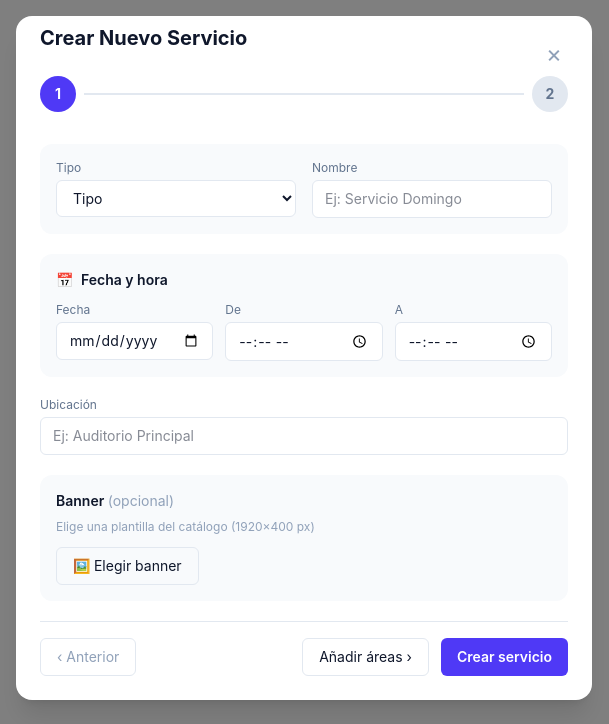
Test case: ServiceWizard › navigates to step 2 with areas
What coordinates should you click on to do the following:
click the button "Añadir áreas ›"
I would click on:
 (366, 657)
Its box is [302,638,429,676].
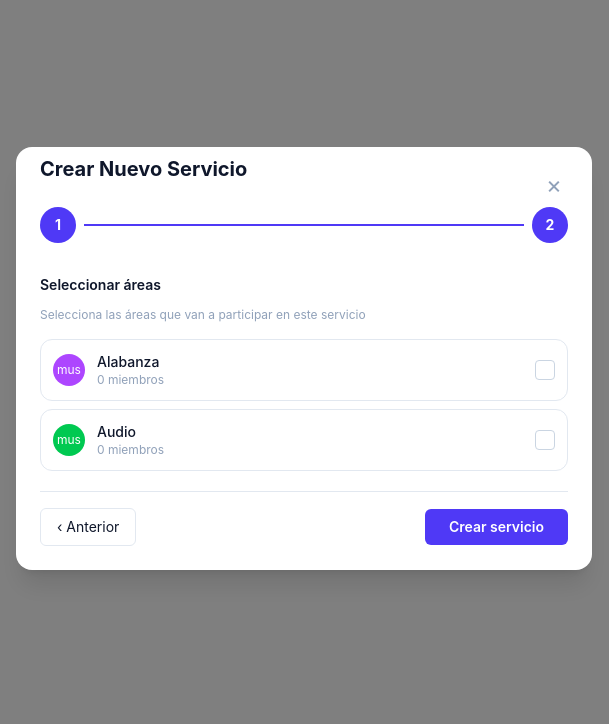
Check: the heading "Seleccionar áreas" is shown, box [40,276,161,292]
Check: the text "Alabanza" is shown, box [97,352,159,370]
